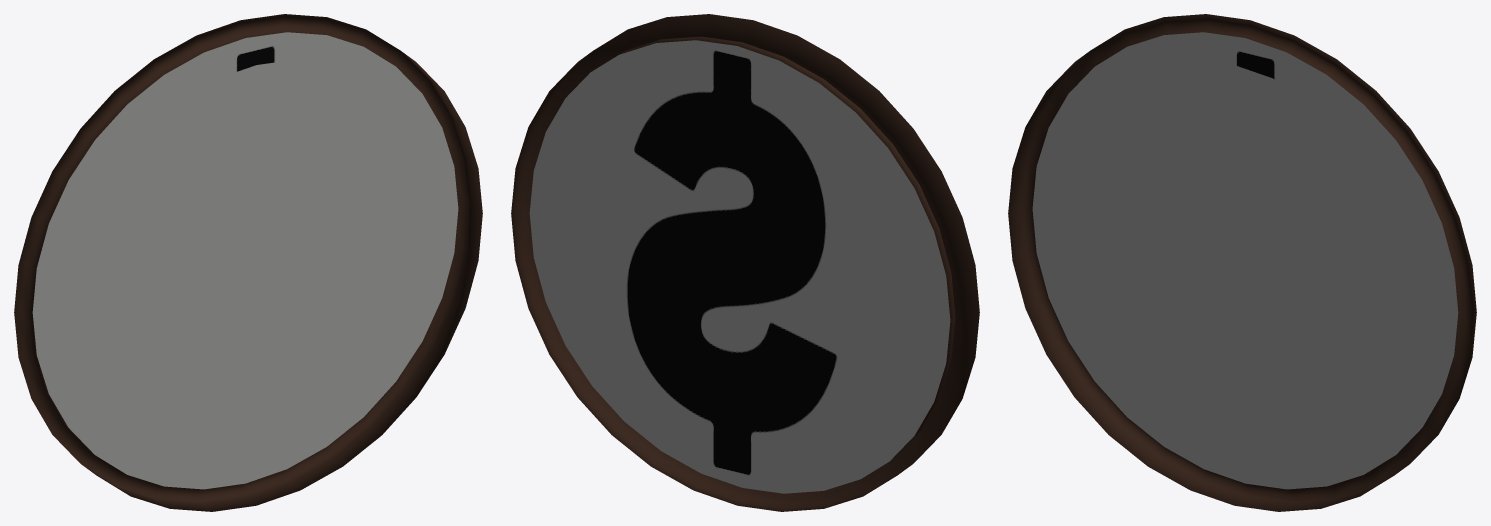
File: 0.50 Coin Money.fbx
3 views of the same model, side by side, from view 1: azimuth 30°, elevation 25°; view 2: azimuth 150°, elevation 25°; view 3: azimuth 330°, elevation 25° (orthographic).
Visible parts, largest first — view 1: 50 Cent.001, 50 Cent .001; view 2: 50 Cent.001, 50 Cent .001; view 3: 50 Cent.001, 50 Cent .001.
Boxes of the visible parts, x1,y1,x2,y2 form: 50 Cent.001: (32, 32, 458, 489); 50 Cent .001: (14, 14, 482, 511); 50 Cent.001: (529, 40, 950, 493); 50 Cent .001: (511, 14, 979, 511); 50 Cent.001: (1032, 32, 1458, 489); 50 Cent .001: (1008, 14, 1476, 511).
Size of the model in its own units: 200 by 200 by 12.2.
